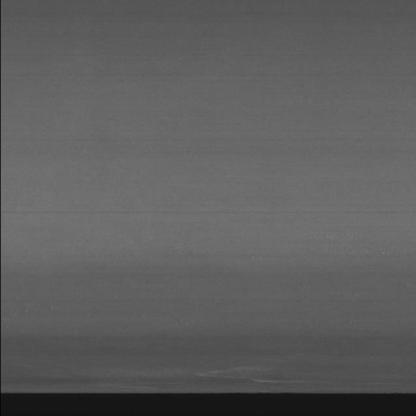silk_spot: (148, 356, 323, 390)
